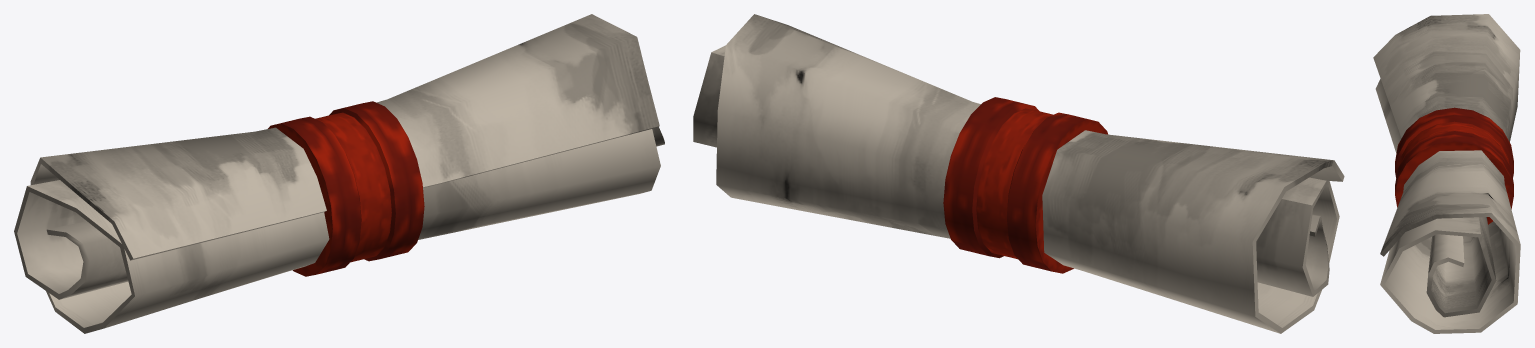
File: scroll_2.glb
3 renders of one model, left to right at view 1: azimuth 30°, elevation 25°; view 2: azimuth 150°, elevation 25°; view 3: azimuth 270°, elevation 25°, orthographic. The views are drawn at different scales.
Parts seen in each view (by area): view 1: Scroll_2; view 2: Scroll_2; view 3: Scroll_2.
Part boxes in pixels (x1=…): Scroll_2: x1=14, y1=14, x2=664, y2=333; Scroll_2: x1=693, y1=14, x2=1344, y2=333; Scroll_2: x1=1373, y1=14, x2=1520, y2=333.
Size of the model in its own units: 0.2329 by 0.0587 by 0.0637.
Materials: 2 (2 with a texture image).
